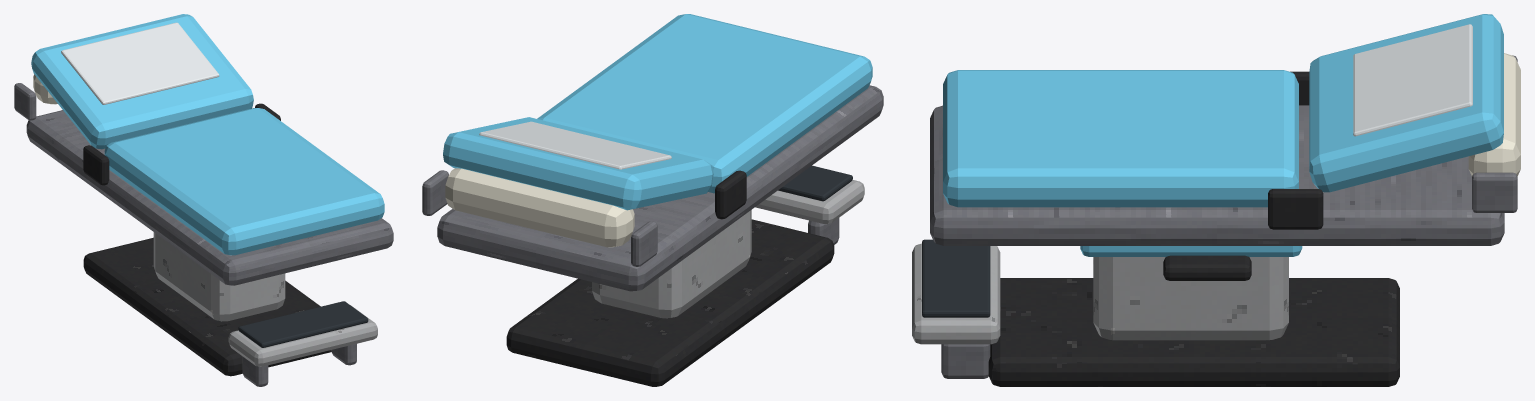
Rendered from decor_med_examination_couch.glb.
3 views of the same model, side by side, from view 1: azimuth 30°, elevation 25°; view 2: azimuth 150°, elevation 25°; view 3: azimuth 270°, elevation 25° (orthographic). The views are drawn at different scales.
Parts seen in each view (by area): view 1: DEC_MedExaminationCouch__Body_Cushion, DEC_MedExaminationCouch__Head_Cushion, DEC_MedExaminationCouch__Upper_Frame, DEC_MedExaminationCouch__Floor_Base, DEC_MedExaminationCouch__Head_Paper, DEC_MedExaminationCouch__Lift_Pedestal, DEC_MedExaminationCouch__Step_Grip, DEC_MedExaminationCouch__Foot_Step, DEC_MedExaminationCouch__Head_Hinge_1, DEC_MedExaminationCouch__Paper_Roll_Bracket_1, DEC_MedExaminationCouch__Step_Support_1, DEC_MedExaminationCouch__Step_Support_2 (+1 smaller); view 2: DEC_MedExaminationCouch__Body_Cushion, DEC_MedExaminationCouch__Floor_Base, DEC_MedExaminationCouch__Upper_Frame, DEC_MedExaminationCouch__Head_Cushion, DEC_MedExaminationCouch__Paper_Roll, DEC_MedExaminationCouch__Lift_Pedestal, DEC_MedExaminationCouch__Head_Paper, DEC_MedExaminationCouch__Foot_Step, DEC_MedExaminationCouch__Step_Grip, DEC_MedExaminationCouch__Head_Hinge_1, DEC_MedExaminationCouch__Paper_Roll_Bracket_1, DEC_MedExaminationCouch__Paper_Roll_Bracket_2 (+1 smaller); view 3: DEC_MedExaminationCouch__Body_Cushion, DEC_MedExaminationCouch__Floor_Base, DEC_MedExaminationCouch__Upper_Frame, DEC_MedExaminationCouch__Head_Cushion, DEC_MedExaminationCouch__Lift_Pedestal, DEC_MedExaminationCouch__Head_Paper, DEC_MedExaminationCouch__Step_Grip, DEC_MedExaminationCouch__Foot_Step, DEC_MedExaminationCouch__Paper_Roll, DEC_MedExaminationCouch__Pedestal_Collar, DEC_MedExaminationCouch__Head_Hinge_2, DEC_MedExaminationCouch__Adjust_Lever (+2 smaller).
Part boxes in pixels (x1=…): DEC_MedExaminationCouch__Body_Cushion: x1=104, y1=108, x2=384, y2=255; DEC_MedExaminationCouch__Head_Cushion: x1=31, y1=14, x2=253, y2=149; DEC_MedExaminationCouch__Upper_Frame: x1=26, y1=110, x2=393, y2=285; DEC_MedExaminationCouch__Floor_Base: x1=83, y1=237, x2=331, y2=376; DEC_MedExaminationCouch__Head_Paper: x1=61, y1=22, x2=219, y2=104; DEC_MedExaminationCouch__Lift_Pedestal: x1=153, y1=232, x2=285, y2=321; DEC_MedExaminationCouch__Step_Grip: x1=238, y1=301, x2=368, y2=347; DEC_MedExaminationCouch__Foot_Step: x1=228, y1=305, x2=377, y2=366; DEC_MedExaminationCouch__Head_Hinge_1: x1=83, y1=145, x2=109, y2=185; DEC_MedExaminationCouch__Paper_Roll_Bracket_1: x1=14, y1=83, x2=36, y2=120; DEC_MedExaminationCouch__Step_Support_1: x1=242, y1=357, x2=268, y2=386; DEC_MedExaminationCouch__Step_Support_2: x1=331, y1=343, x2=356, y2=365; DEC_MedExaminationCouch__Body_Cushion: x1=537, y1=14, x2=872, y2=193; DEC_MedExaminationCouch__Floor_Base: x1=506, y1=219, x2=834, y2=386; DEC_MedExaminationCouch__Upper_Frame: x1=437, y1=85, x2=883, y2=291; DEC_MedExaminationCouch__Head_Cushion: x1=443, y1=117, x2=713, y2=210; DEC_MedExaminationCouch__Paper_Roll: x1=445, y1=168, x2=634, y2=247; DEC_MedExaminationCouch__Lift_Pedestal: x1=592, y1=210, x2=751, y2=318; DEC_MedExaminationCouch__Head_Paper: x1=479, y1=121, x2=671, y2=169; DEC_MedExaminationCouch__Foot_Step: x1=755, y1=180, x2=864, y2=224; DEC_MedExaminationCouch__Step_Grip: x1=778, y1=165, x2=852, y2=201; DEC_MedExaminationCouch__Head_Hinge_1: x1=715, y1=170, x2=746, y2=219; DEC_MedExaminationCouch__Paper_Roll_Bracket_1: x1=631, y1=221, x2=657, y2=266; DEC_MedExaminationCouch__Paper_Roll_Bracket_2: x1=422, y1=170, x2=448, y2=215; DEC_MedExaminationCouch__Body_Cushion: x1=943, y1=70, x2=1298, y2=207; DEC_MedExaminationCouch__Floor_Base: x1=988, y1=278, x2=1399, y2=386; DEC_MedExaminationCouch__Upper_Frame: x1=930, y1=105, x2=1504, y2=245; DEC_MedExaminationCouch__Head_Cushion: x1=1309, y1=14, x2=1503, y2=192; DEC_MedExaminationCouch__Lift_Pedestal: x1=1093, y1=257, x2=1288, y2=340; DEC_MedExaminationCouch__Head_Paper: x1=1353, y1=24, x2=1472, y2=136; DEC_MedExaminationCouch__Step_Grip: x1=922, y1=239, x2=990, y2=317; DEC_MedExaminationCouch__Foot_Step: x1=912, y1=243, x2=1000, y2=344; DEC_MedExaminationCouch__Paper_Roll: x1=1468, y1=53, x2=1520, y2=176; DEC_MedExaminationCouch__Pedestal_Collar: x1=1080, y1=246, x2=1302, y2=256; DEC_MedExaminationCouch__Head_Hinge_2: x1=1268, y1=189, x2=1323, y2=229; DEC_MedExaminationCouch__Adjust_Lever: x1=1163, y1=255, x2=1251, y2=280.
Size of the model in its own units: 0.895 by 0.9598 by 1.87.
Materials: 7 (3 with a texture image).
